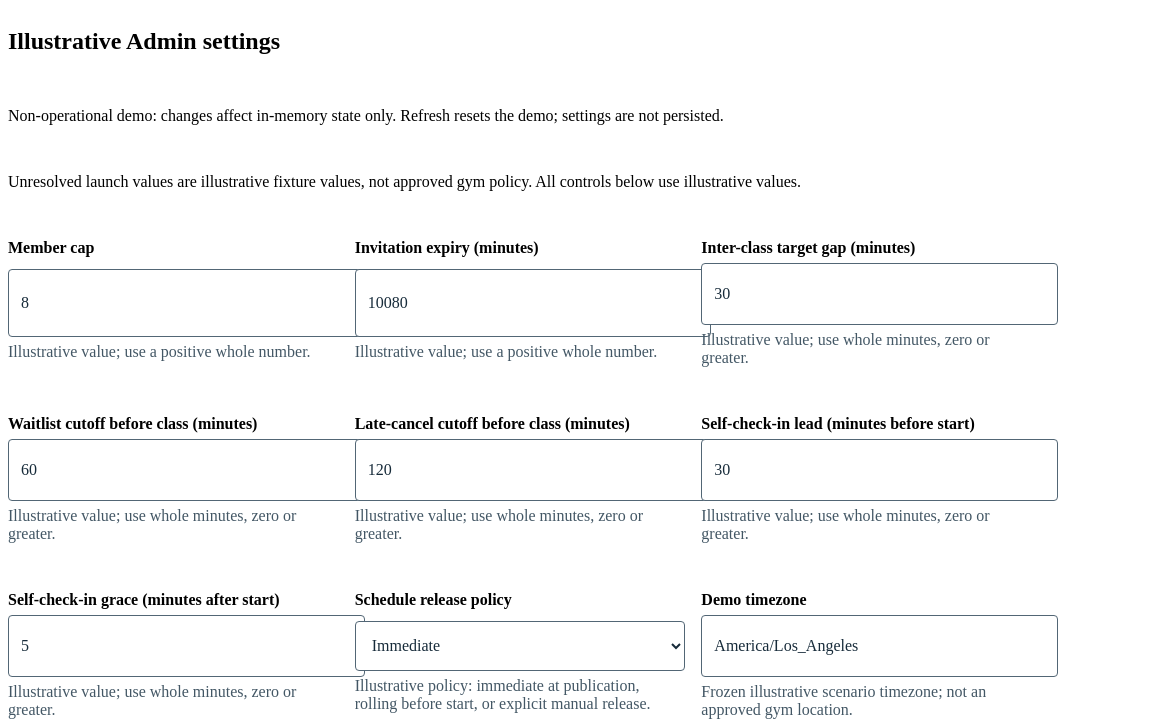
Illustrative settings › Admin settings changes › submits an adjustable invitationExpiryMinutes through real demo state
Replace the text in the number field labelled "Invitation expiry (minutes)" with "42" at (533, 303), box [355,269,711,337]
(page scrolled)
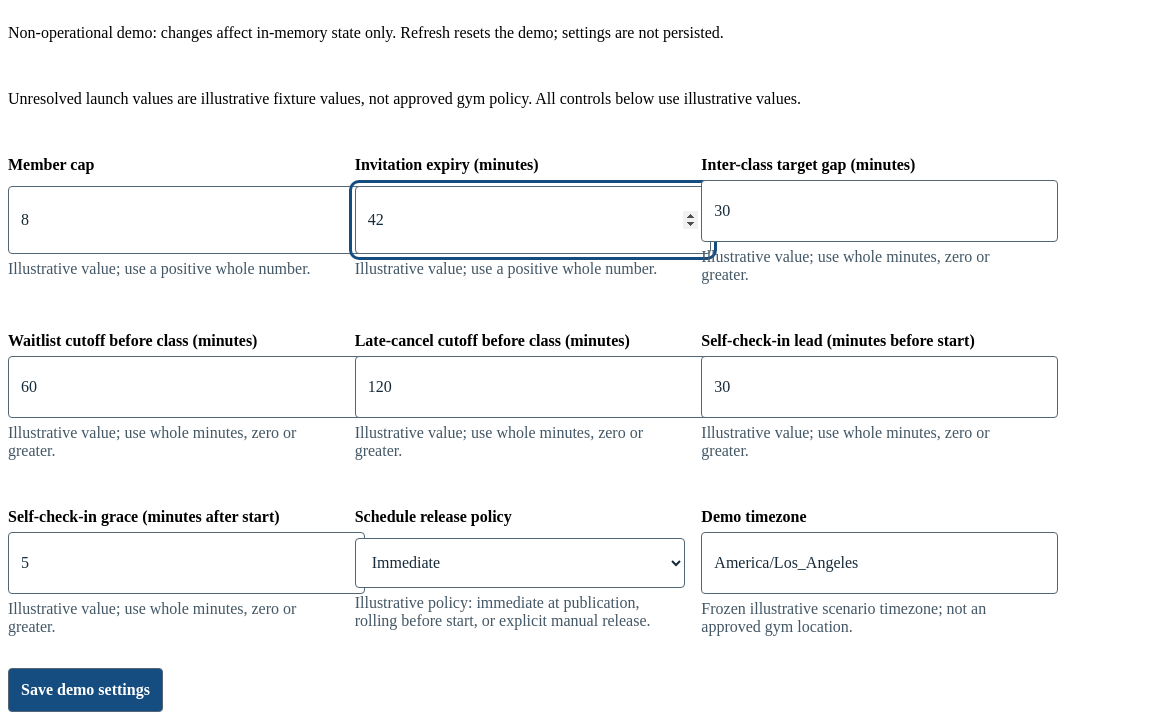
Click the button "Save demo settings".
click(85, 690)  # box [8,668,163,712]
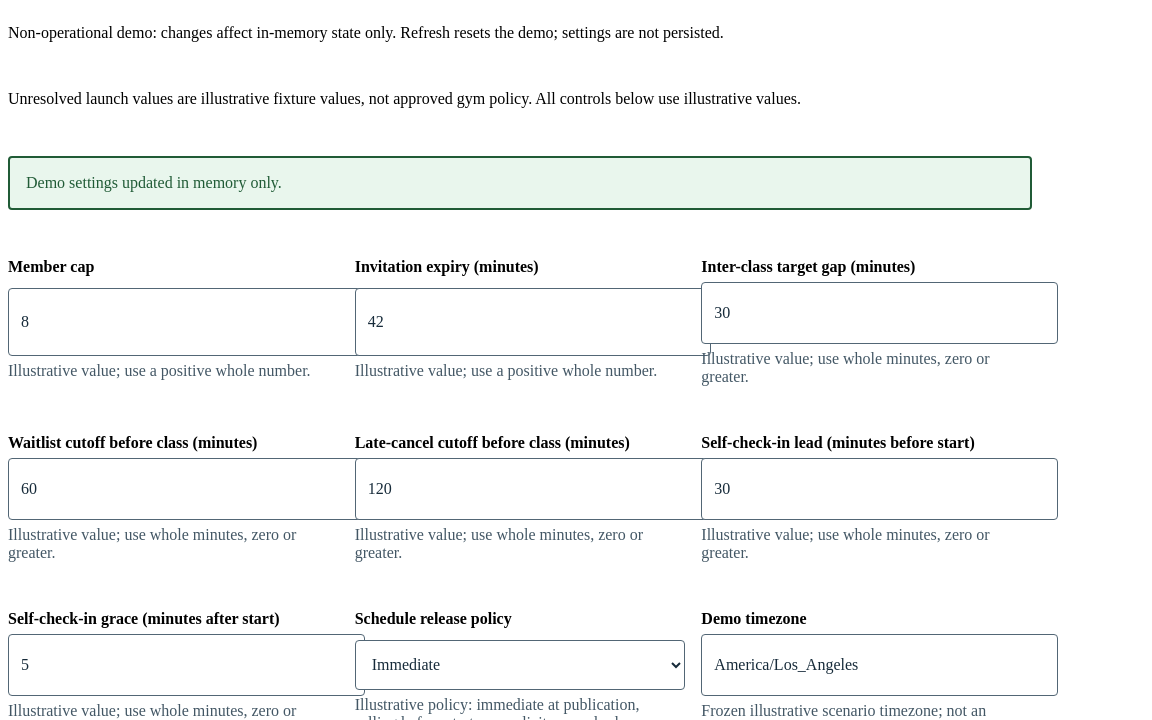
Now the message reads "Demo settings updated in memory only.", box [26,174,282,191]
